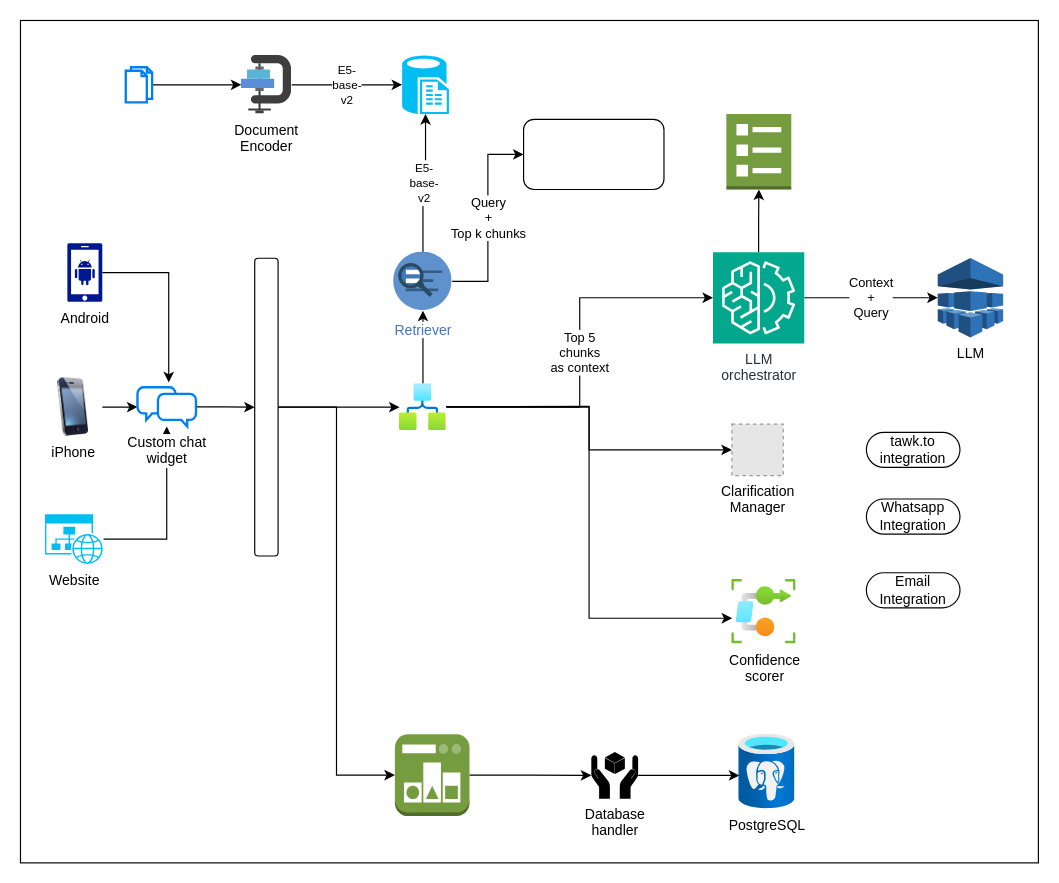
Some shapes in this 1059 by 883 pixel diagram are drawn without their labels. Grey dashed boxes stand in for pictures. Here are the shapes that lost their labels. From the top down, the box of each, then its label:
(124, 66, 153, 103): Documents
(402, 55, 448, 113): Qdrant
(522, 118, 664, 190): Reranker (BGE-reranker-v2-m3)
(725, 113, 791, 190): Prompt Templates
(254, 257, 278, 556): Gateway
(399, 383, 446, 430): Response Manager
(394, 733, 470, 816): Conversation manager
